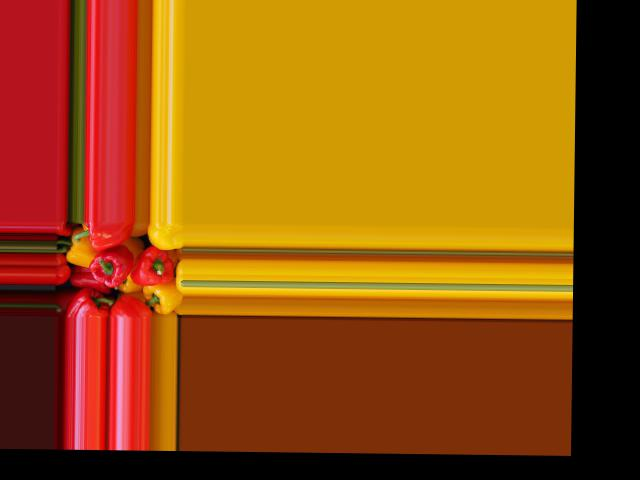bell_pepper: (146, 279, 182, 311)
